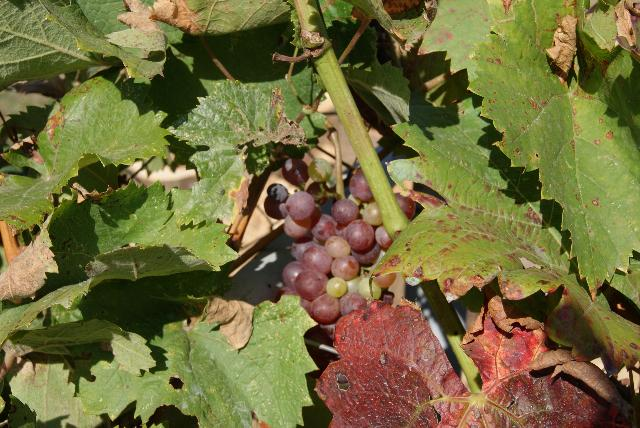grapes: (281, 170, 395, 330)
